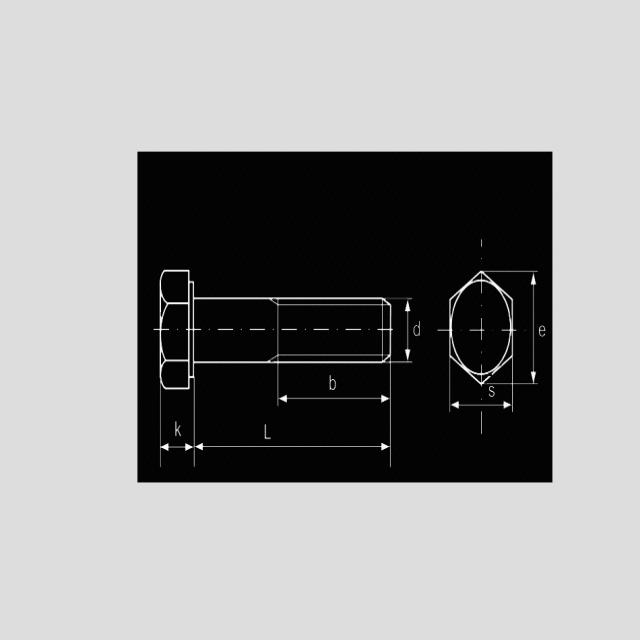marking_line: (197, 439, 391, 453), (279, 393, 389, 405), (452, 399, 513, 411), (531, 273, 537, 383), (404, 301, 412, 360), (159, 442, 192, 454)
